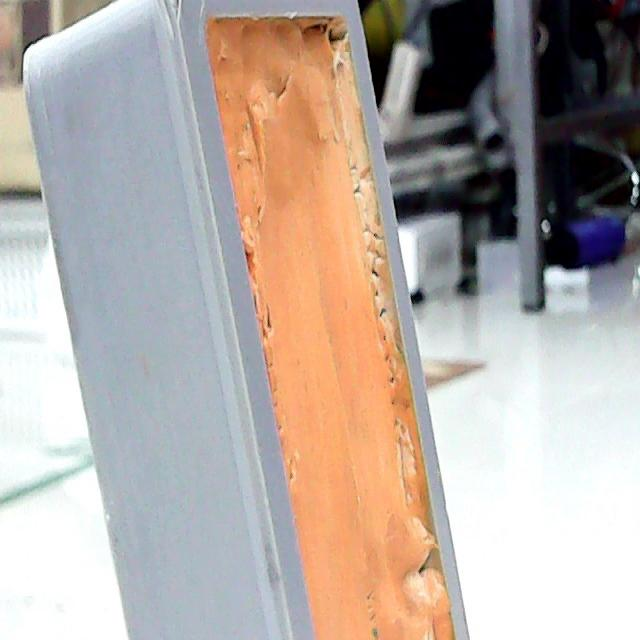block: (12, 2, 482, 640)
